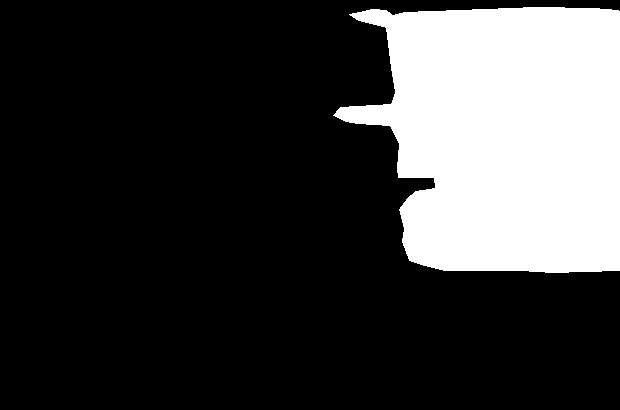type4: (332, 3, 620, 274)
